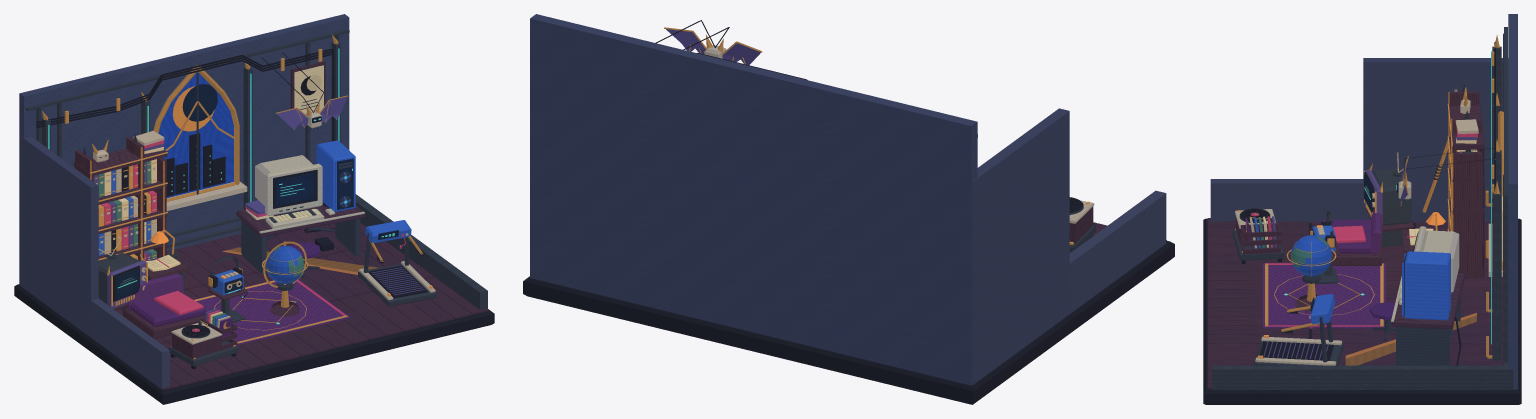
File: room-source.glb
3 renders of one model, left to right at view 1: azimuth 30°, elevation 25°; view 2: azimuth 150°, elevation 25°; view 3: azimuth 270°, elevation 25°, orthographic. The views are drawn at different scales.
Visible parts, largest first — view 1: room-shell, body__play, body__read, body__move, body__collect, body__watch, body__listen, surface__travel, familiar-body, body__travel; view 2: room-shell, familiar-body, body__collect; view 3: room-shell, body__play, body__read, body__move, body__watch, body__collect, surface__travel, body__listen, body__travel, familiar-body.
Boxes of the visible parts, <box> form: room-shell: <box>14,14,494,404</box>; body__play: <box>236,140,365,278</box>; body__read: <box>74,130,189,292</box>; body__move: <box>358,220,436,306</box>; body__collect: <box>168,308,238,369</box>; body__watch: <box>98,238,147,310</box>; body__listen: <box>208,256,247,323</box>; surface__travel: <box>266,245,304,283</box>; familiar-body: <box>275,95,347,131</box>; body__travel: <box>262,241,308,316</box>; room-shell: <box>523,14,1174,404</box>; familiar-body: <box>664,27,762,64</box>; body__collect: <box>1069,200,1095,252</box>; room-shell: <box>1203,14,1521,404</box>; body__play: <box>1369,226,1464,365</box>; body__read: <box>1402,83,1484,278</box>; body__move: <box>1254,294,1343,365</box>; body__watch: <box>1364,152,1414,247</box>; body__collect: <box>1232,209,1284,263</box>; surface__travel: <box>1290,235,1332,276</box>; body__listen: <box>1312,210,1339,284</box>; body__travel: <box>1286,230,1336,311</box>; familiar-body: <box>1396,156,1411,205</box>.
Size of the model in its own units: 9.7 by 5.72 by 7.5.
Materials: 1 (1 with a texture image).
